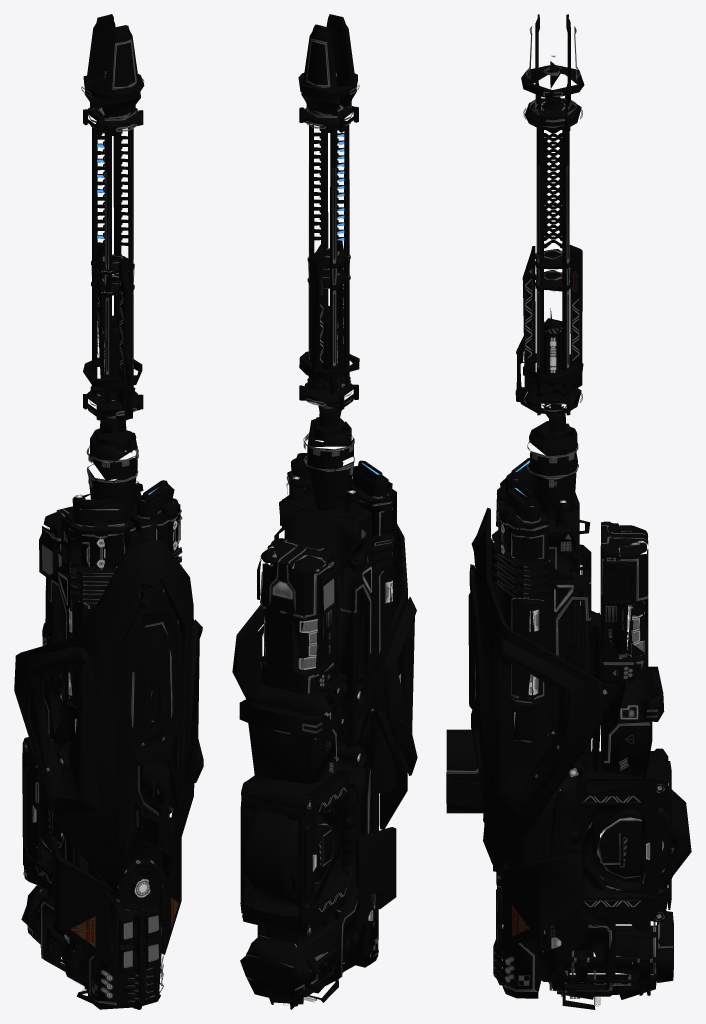
Rendered from quarreler-cannon.glb.
The picture shows the model from 3 angles, left to right: view 1: azimuth 30°, elevation 25°; view 2: azimuth 150°, elevation 25°; view 3: azimuth 270°, elevation 25°; orthographic projection. The views are drawn at different scales.
Visible parts, largest first — view 1: body; view 2: body; view 3: body.
Part boxes in pixels (x1,y1,x2,y2): body: (14,14,203,1009); body: (232,14,417,1009); body: (446,14,691,1009).
Bounding box in the file's own units: 0.6436 × 3.87 × 0.8731.
8 materials, 5 textured.
